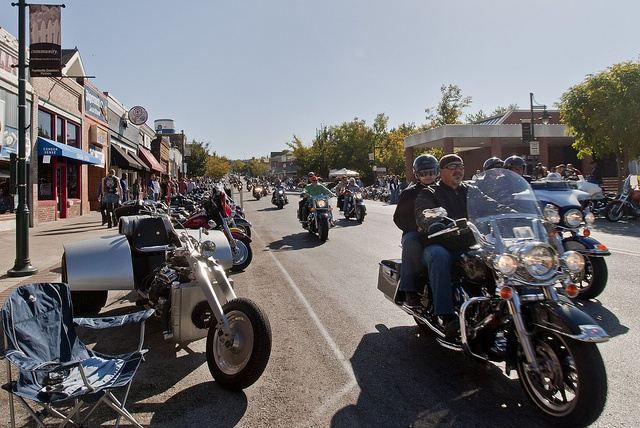non-vehicle: (375, 168, 610, 427), (60, 212, 272, 391), (527, 171, 610, 299), (604, 174, 640, 222), (301, 192, 333, 242), (342, 188, 365, 222), (273, 186, 285, 209), (252, 185, 262, 200)
